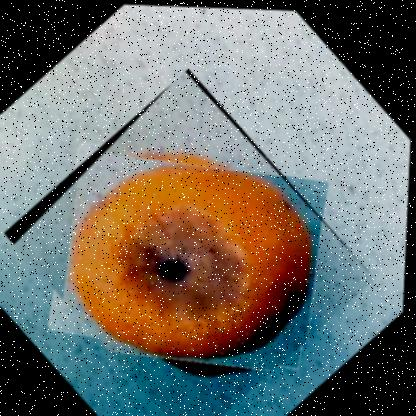orange_rotten: (0, 61, 385, 415)
